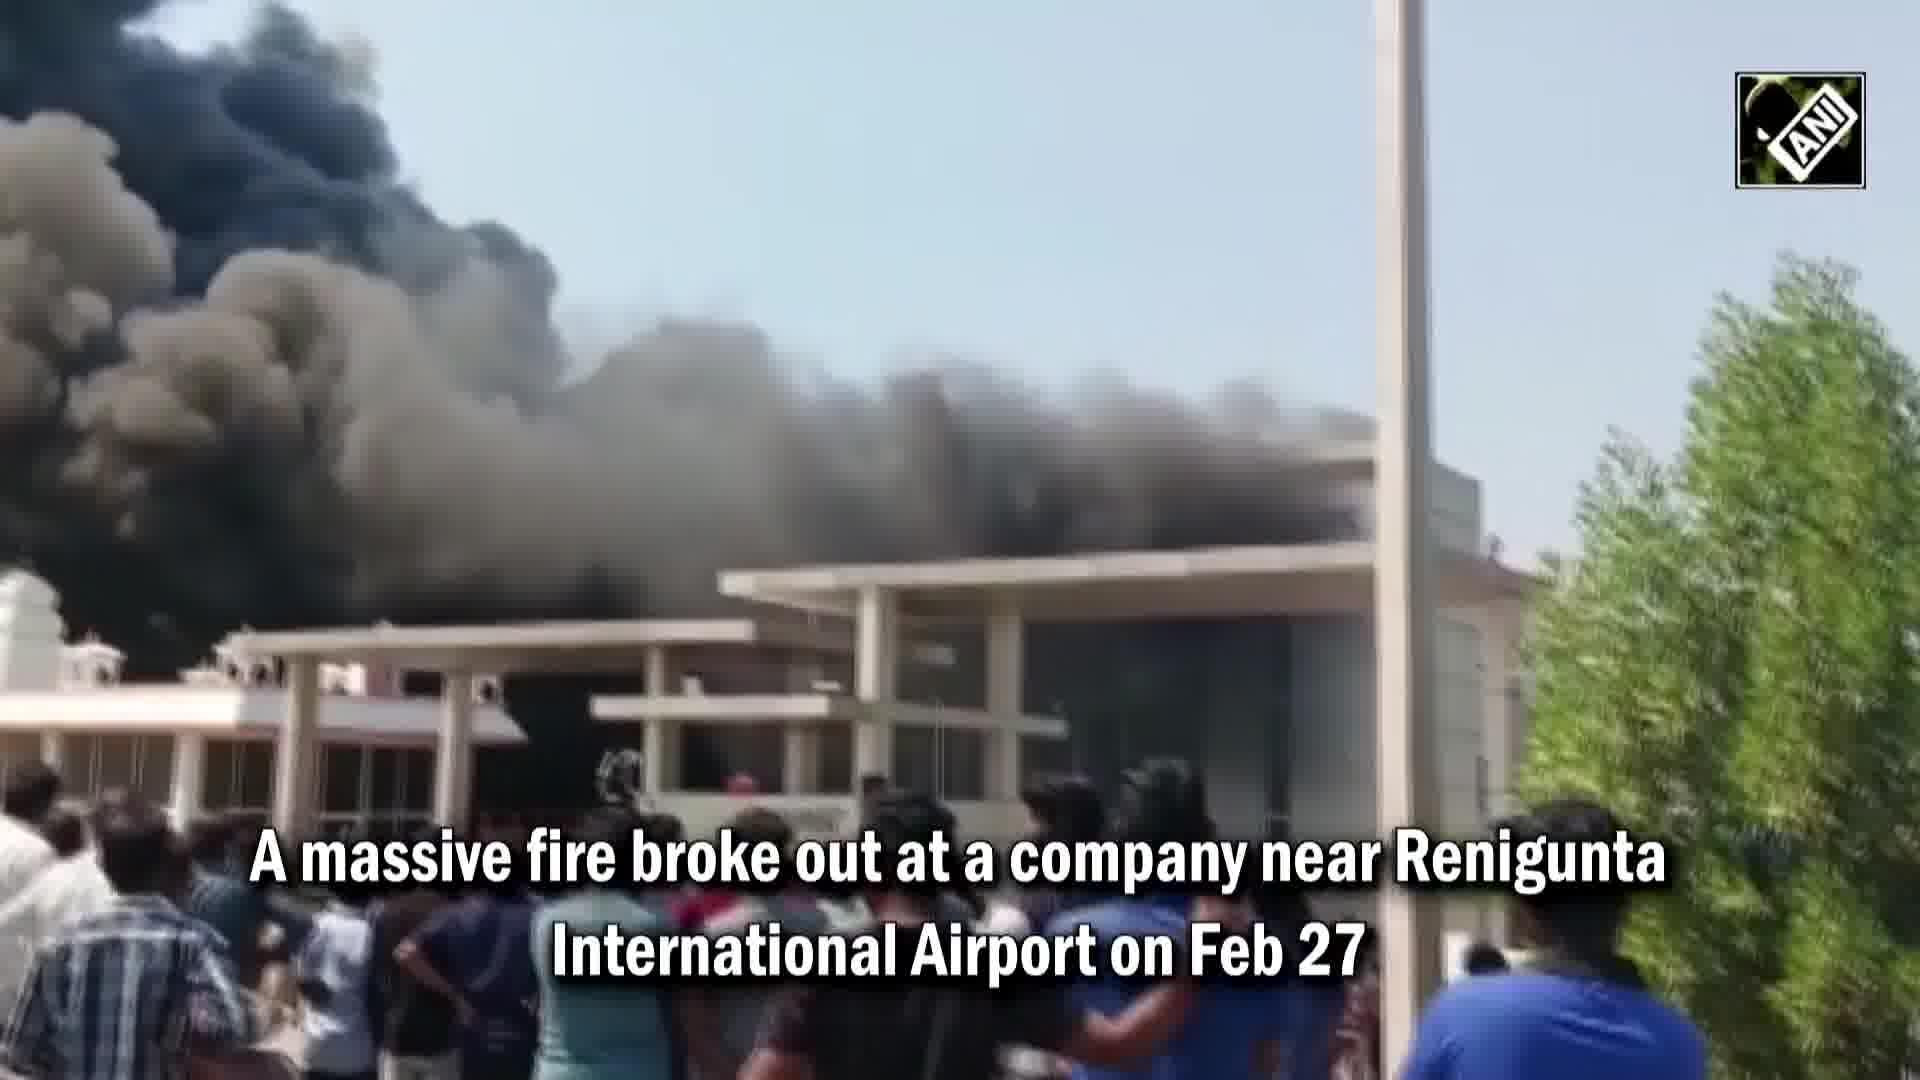smoke: (414, 290, 1371, 563), (5, 29, 405, 616)
